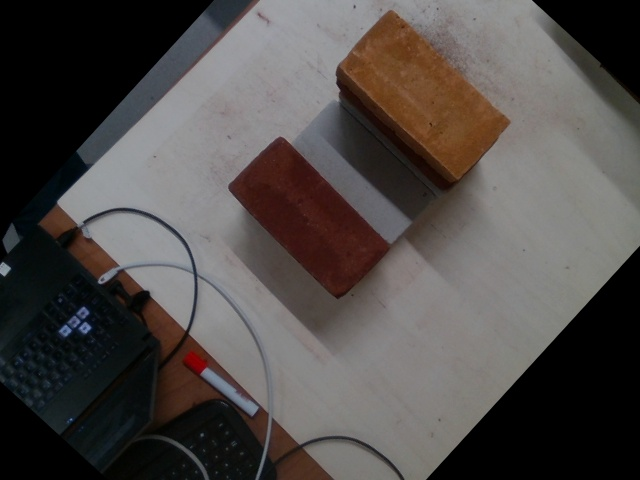brick: (339, 11, 512, 178), (227, 136, 389, 300), (290, 97, 437, 244)
